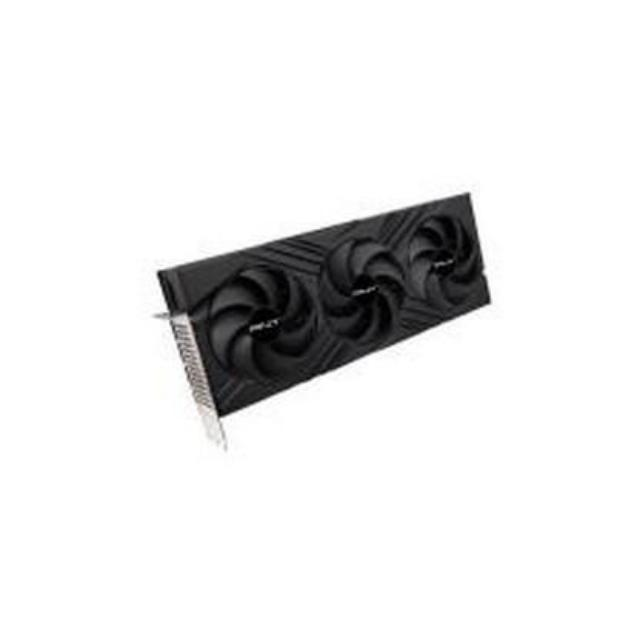GPU: (158, 185, 492, 417)
